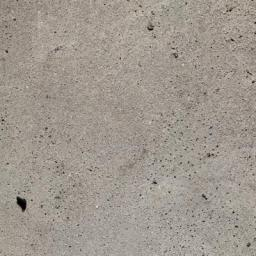FOD: (16, 192, 30, 215)
